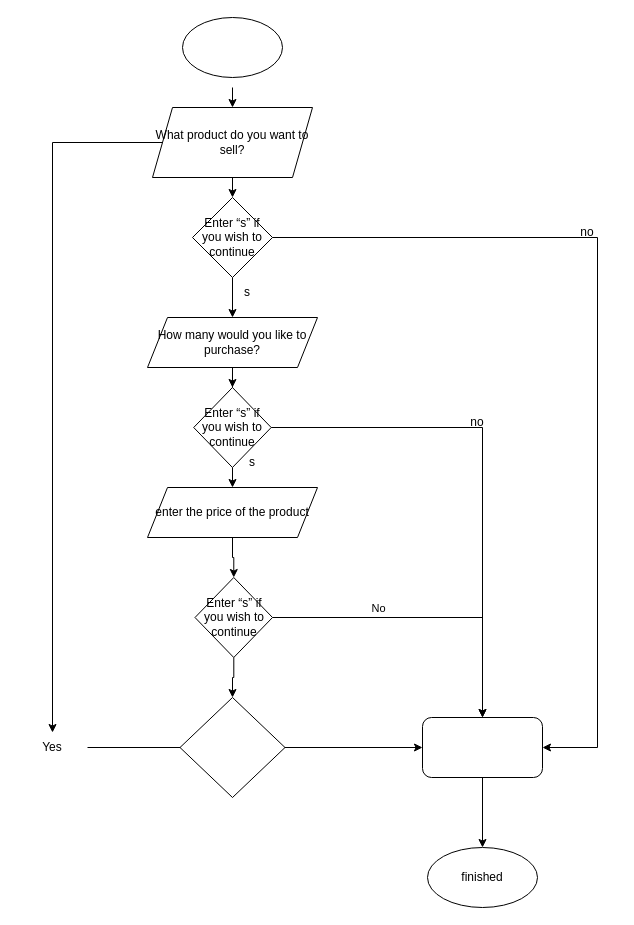
Some shapes in this 634 by 925 pixel diagram are drawn without their labels. The shapes that lost their labels are listed below. From the top down, each one's centre as x and y in pixels, then its label:
[232,47]: start
[232,747]: Would you like to continue adding?
[482,747]: sales summary
